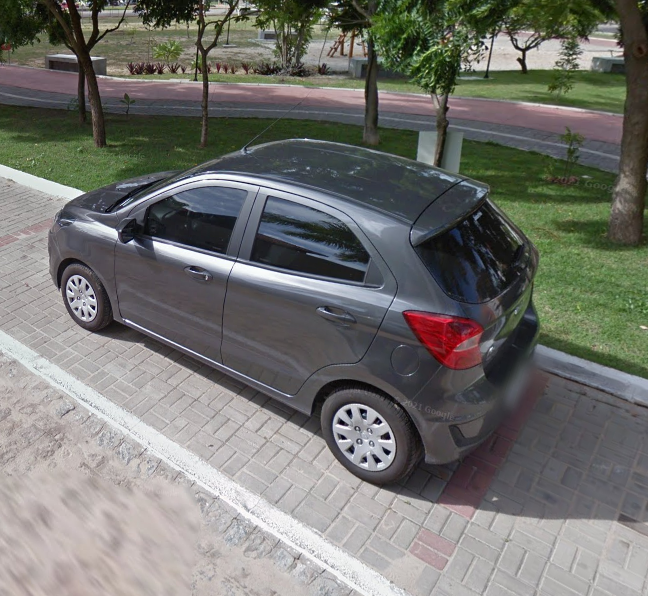car: (45, 94, 547, 487)
